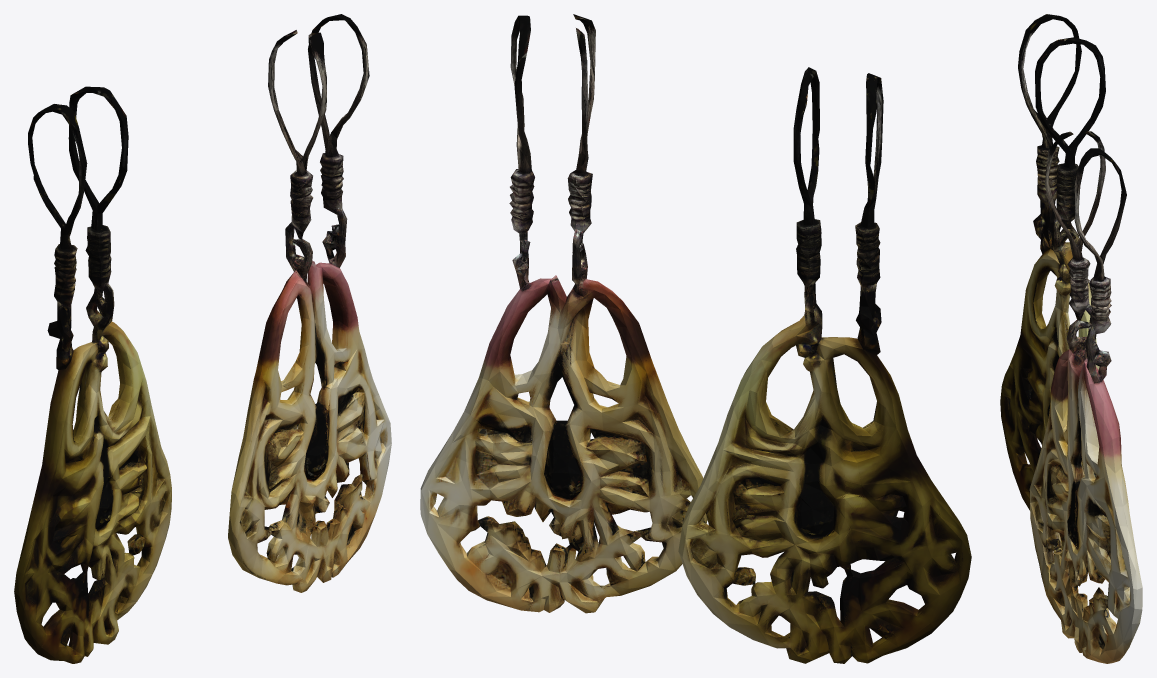
File: horn-earrings-vintage.jpeg.glb
3 renders of one model, left to right at view 1: azimuth 30°, elevation 25°; view 2: azimuth 150°, elevation 25°; view 3: azimuth 270°, elevation 25°, orthographic. The views are drawn at different scales.
Visible parts, largest first — view 1: world; view 2: world; view 3: world.
Boxes of the visible parts, x1,y1,x2,y2 form: world: (14, 14, 391, 663); world: (420, 14, 971, 663); world: (1000, 14, 1142, 663).
Bounding box in the file's own units: 0.842 × 1 × 0.2528.
1 material, 1 textured.
